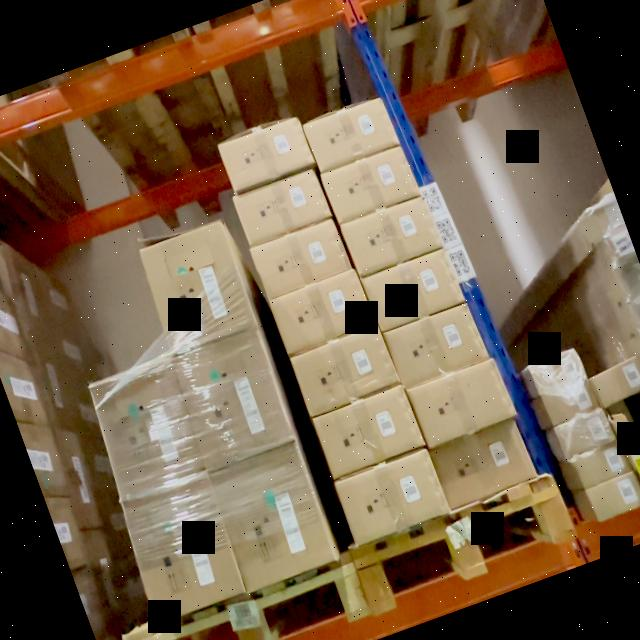box: (120, 475, 248, 620), (210, 446, 338, 588), (176, 331, 298, 468), (90, 363, 208, 498), (139, 220, 258, 350), (334, 450, 449, 544), (312, 388, 424, 478), (290, 328, 399, 416), (432, 418, 538, 508), (268, 269, 376, 355), (411, 359, 517, 446), (363, 248, 464, 332), (250, 219, 353, 301), (388, 304, 488, 388), (342, 196, 442, 276), (231, 168, 331, 246), (322, 147, 420, 226), (303, 96, 402, 172), (219, 118, 314, 192), (560, 408, 619, 456), (612, 402, 640, 502), (530, 348, 588, 396), (575, 441, 634, 488), (544, 379, 602, 426), (590, 356, 640, 406), (588, 473, 640, 521), (615, 253, 640, 304), (630, 293, 640, 334)
